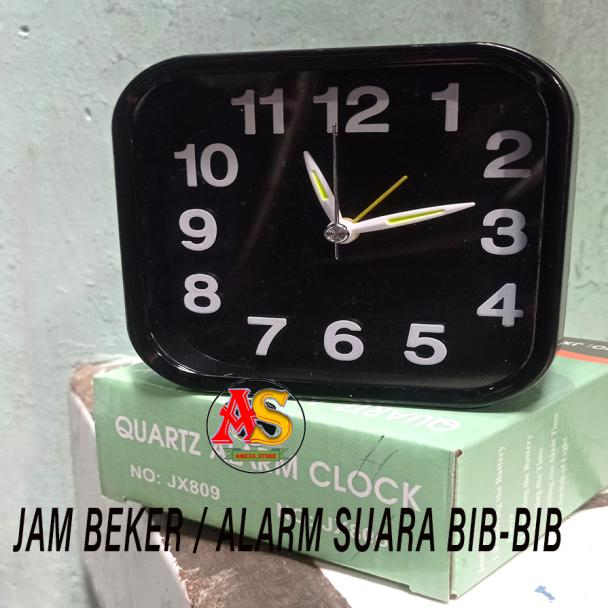Jam: (105, 48, 577, 400)
